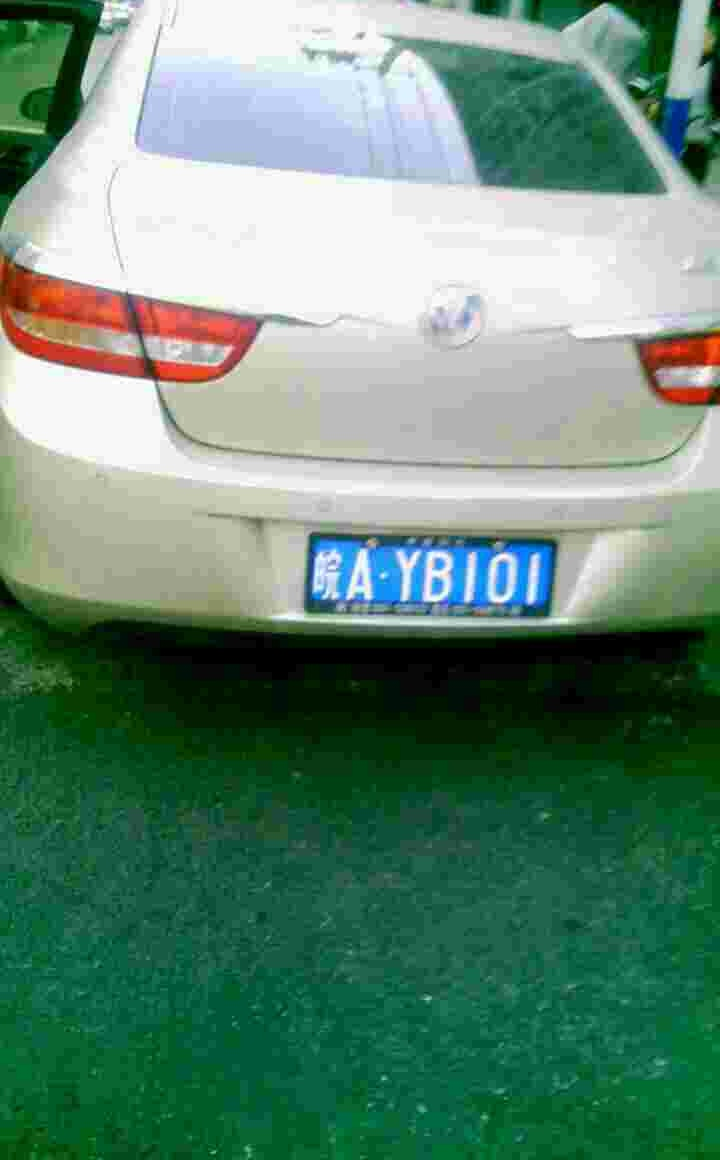plate: (307, 531, 565, 622)
